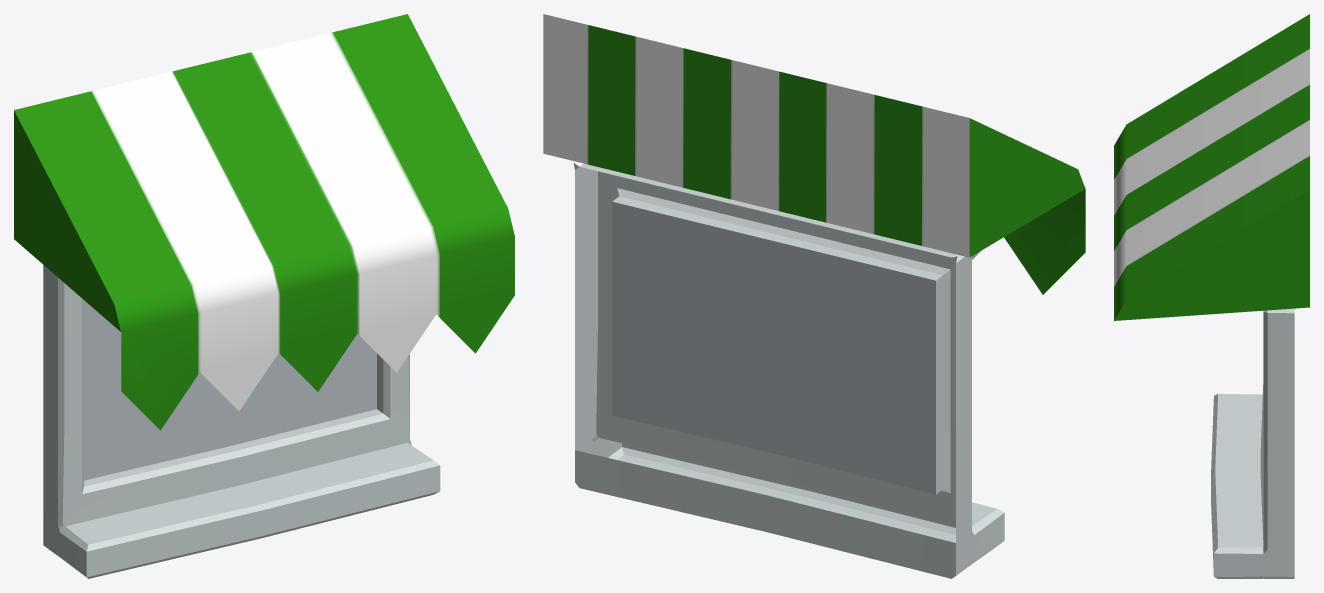
File: fbx_oldbuilding_window_r.fbx
The picture shows the model from 3 angles, left to right: view 1: azimuth 30°, elevation 25°; view 2: azimuth 150°, elevation 25°; view 3: azimuth 270°, elevation 25°; orthographic projection. The views are drawn at different scales.
Parts seen in each view (by area): view 1: fbx_oldbuilding_window_r; view 2: fbx_oldbuilding_window_r; view 3: fbx_oldbuilding_window_r.
Part boxes in pixels (bbox=[...]): fbx_oldbuilding_window_r: bbox=[14, 14, 514, 578]; fbx_oldbuilding_window_r: bbox=[543, 14, 1085, 578]; fbx_oldbuilding_window_r: bbox=[1114, 14, 1309, 578].
Bounding box in the file's own units: 1.18 × 1.25 × 0.5556.
2 materials, 1 textured.
